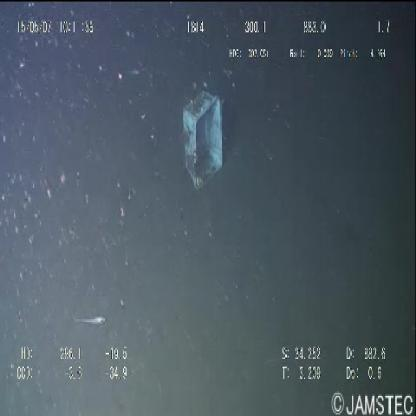Rác: (180, 92, 224, 192)
